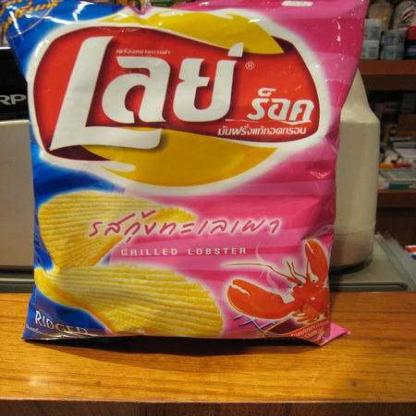potatochip: (0, 0, 374, 354)
